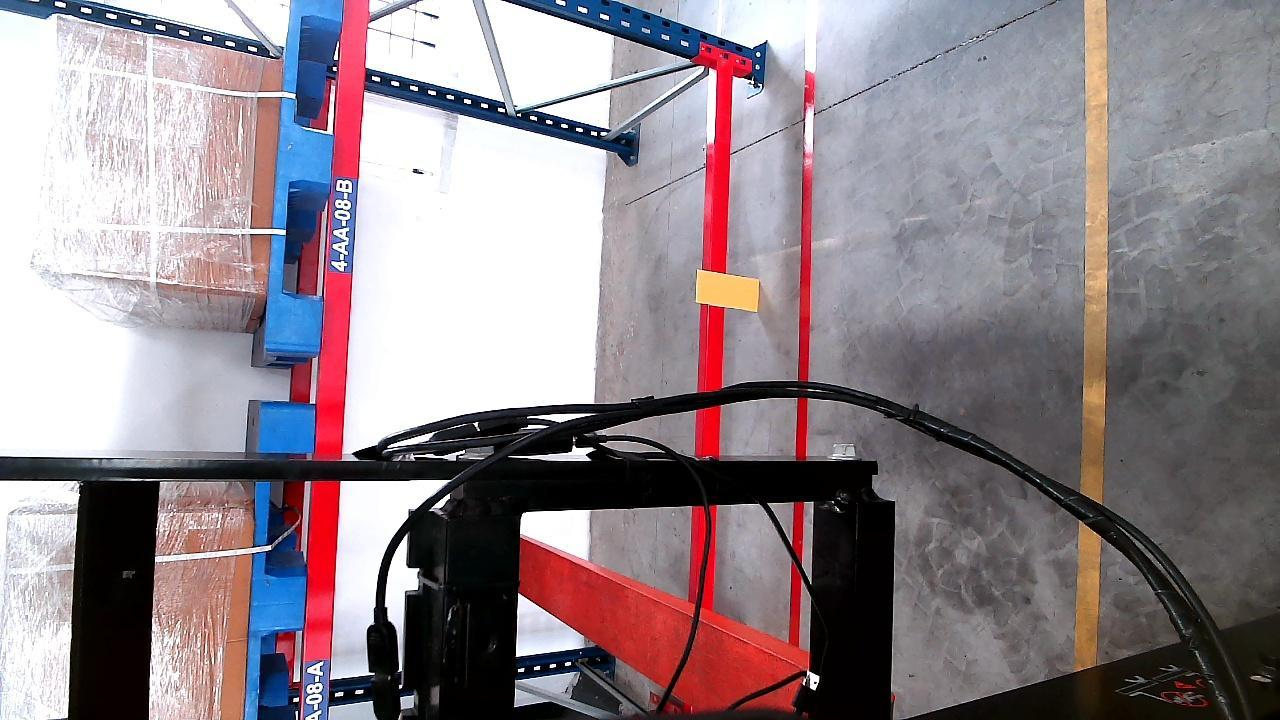red_line: (798, 1, 818, 454)
yellow_line: (1081, 0, 1105, 672)
